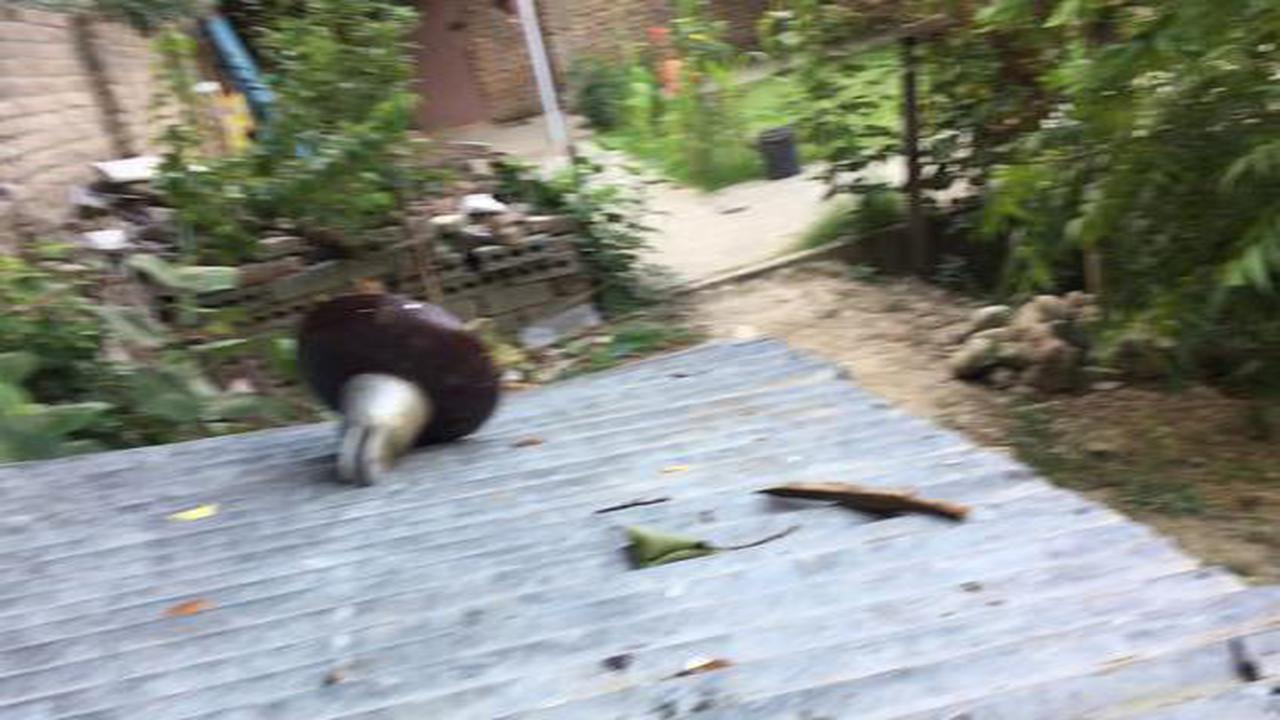insulator_disc: (293, 290, 506, 486)
